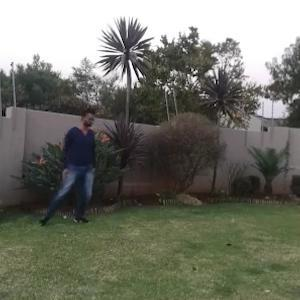follow: (62, 103, 97, 227)
